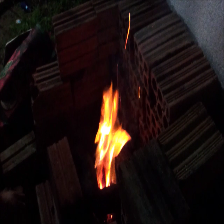fire_h: (94, 80, 131, 189)
fire_l: (125, 11, 131, 51), (138, 85, 141, 99), (107, 213, 112, 219)
